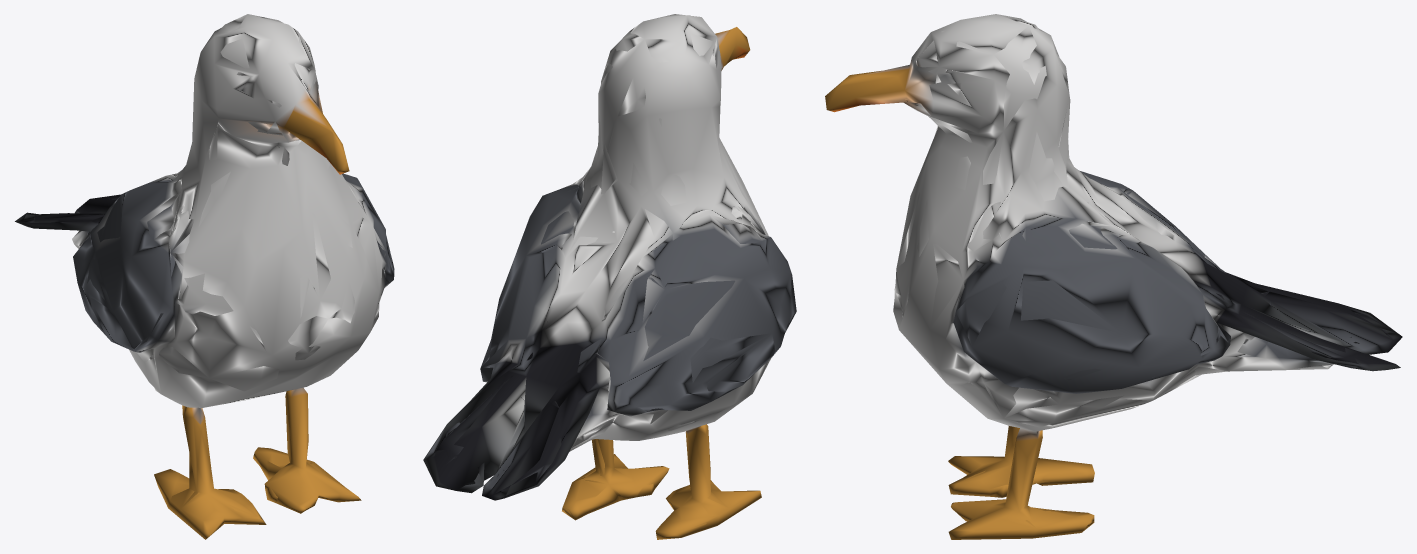
File: gen3d-seagull-lod0.glb
The picture shows the model from 3 angles, left to right: view 1: azimuth 30°, elevation 25°; view 2: azimuth 150°, elevation 25°; view 3: azimuth 270°, elevation 25°; orthographic projection. The views are drawn at different scales.
Visible parts, largest first — view 1: part_0; view 2: part_0; view 3: part_0.
Boxes of the visible parts, x1,y1,x2,y2 form: part_0: (15, 14, 394, 539); part_0: (423, 14, 796, 539); part_0: (825, 14, 1402, 539).
Size of the model in its own units: 0.5568 by 0.9986 by 1.08.
